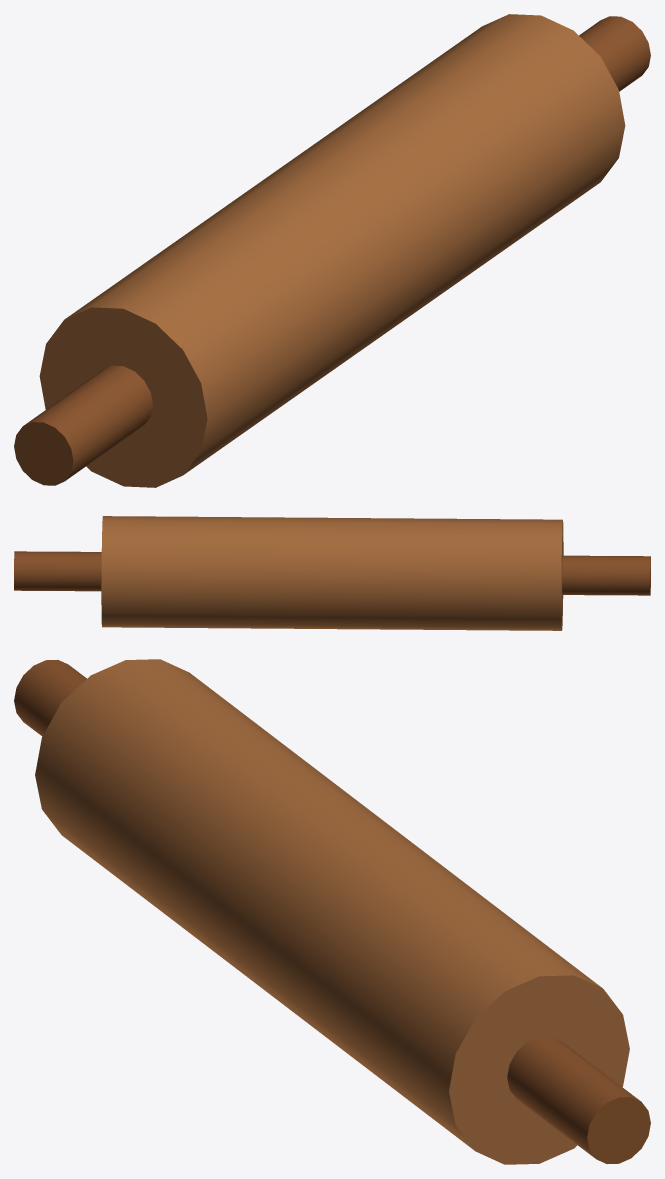
File: CMU3DMaterialLeisureRollingPinCloud.glb
3 views of the same model, one above another, from view 1: azimuth 30°, elevation 25°; view 2: azimuth 150°, elevation 25°; view 3: azimuth 270°, elevation 25° (orthographic). The views are drawn at different scales.
Parts seen in each view (by area): view 1: wood rolling cylinder, near turned handle, far turned handle; view 2: wood rolling cylinder, near turned handle, far turned handle; view 3: wood rolling cylinder, far turned handle, near turned handle.
Part boxes in pixels (x1=…): wood rolling cylinder: x1=39, y1=14, x2=625, y2=487; near turned handle: x1=14, y1=365, x2=152, y2=485; far turned handle: x1=579, y1=16, x2=650, y2=91; wood rolling cylinder: x1=101, y1=516, x2=563, y2=630; near turned handle: x1=562, y1=555, x2=650, y2=595; far turned handle: x1=14, y1=551, x2=101, y2=591; wood rolling cylinder: x1=35, y1=659, x2=629, y2=1164; far turned handle: x1=507, y1=1036, x2=650, y2=1163; near turned handle: x1=14, y1=660, x2=86, y2=736.
Size of the model in its own units: 0.6724 by 0.13 by 0.4002.
